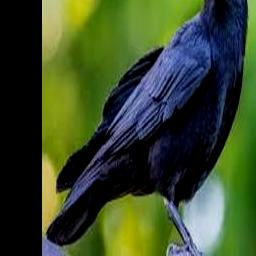Crow: (46, 0, 249, 254)
